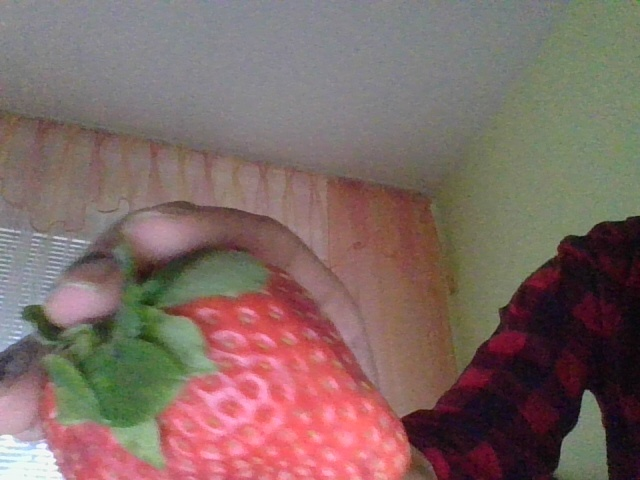ripe: (35, 276, 410, 480)
